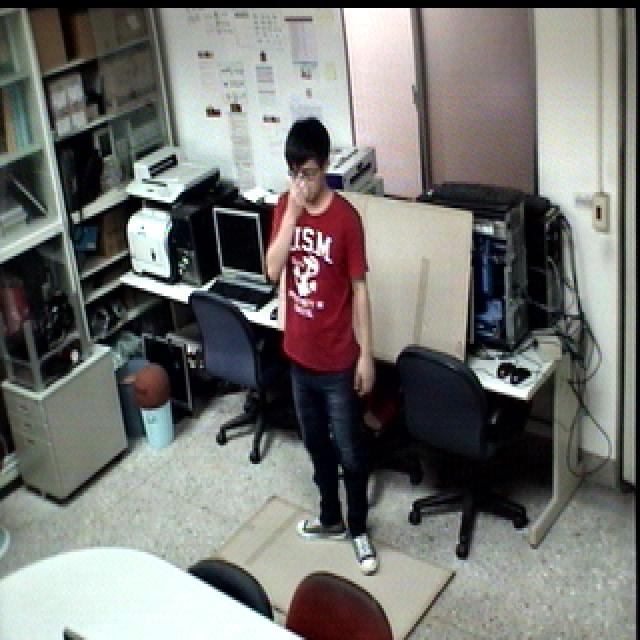stand: (257, 110, 395, 580)
